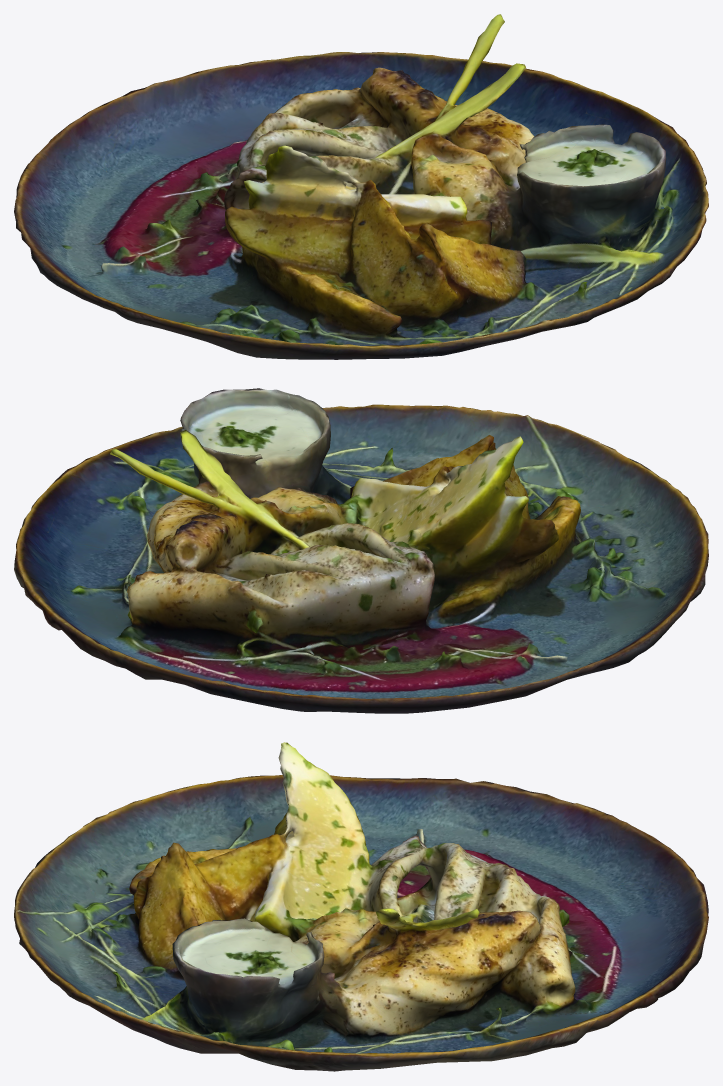
Rendered from calamar.glb.
The picture shows the model from 3 angles, top to bottom: view 1: azimuth 30°, elevation 25°; view 2: azimuth 150°, elevation 25°; view 3: azimuth 270°, elevation 25°; orthographic projection.
Parts seen in each view (by area): view 1: /ObjectCapture/Geometry/Mesh; view 2: /ObjectCapture/Geometry/Mesh; view 3: /ObjectCapture/Geometry/Mesh.
Part boxes in pixels (<box>): /ObjectCapture/Geometry/Mesh: <box>14,14,708,359</box>; /ObjectCapture/Geometry/Mesh: <box>14,388,708,713</box>; /ObjectCapture/Geometry/Mesh: <box>14,742,708,1071</box>.
Bounding box in the file's own units: 0.2741 × 0.0711 × 0.2753.
Materials: 1 (1 with a texture image).
